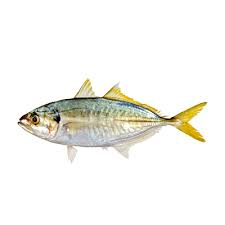Ikan Selar: (17, 94, 208, 148)
